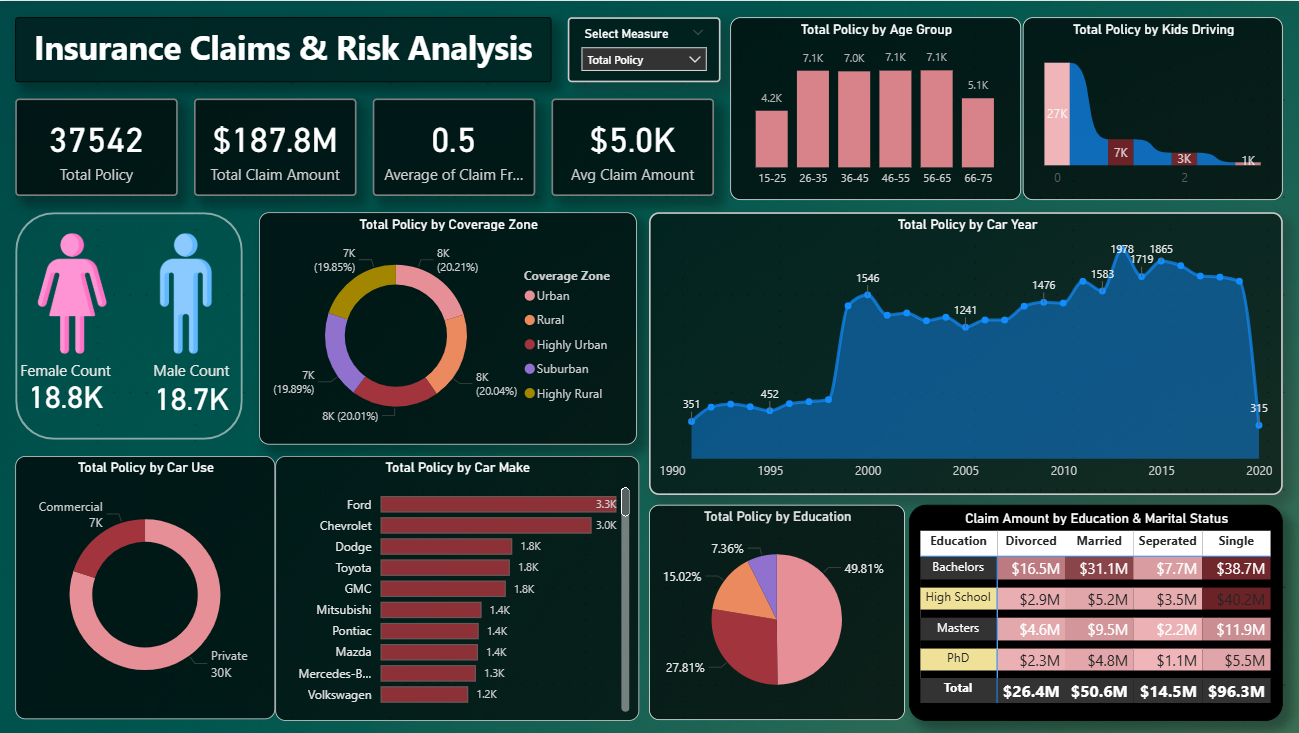

What the dashboard file says about the page in this screenshot:
{"tool":"powerbi","page":{"name":"Page 1","canvas":[1280,720],"ordinal":0},"visuals":[{"type":"textbox","box":[16,16,528,64],"z":0},{"type":"cardVisual","fields":{"Data":["insurance_data_car.Female Count","insurance_data_car.Male Count"]},"box":[0,336,256,80],"z":1000},{"type":"slicer","fields":{"Values":["Select Measure.Select Measure"]},"box":[560,16,150,64],"z":2000},{"type":"donutChart","fields":{"Y":["insurance_data_car.Total Policy"],"Category":["insurance_data_car.Car Use"]},"box":[16,448,256,259],"z":3000},{"type":"clusteredBarChart","fields":{"Y":["insurance_data_car.Total Policy"],"Category":["insurance_data_car.Car Make"]},"box":[272,448,358,261],"z":4000},{"type":"donutChart","fields":{"Y":["insurance_data_car.Total Policy"],"Category":["insurance_data_car.Coverage Zone"]},"box":[256,208,372,229],"z":5000},{"type":"clusteredColumnChart","fields":{"Y":["insurance_data_car.Total Policy"],"Category":["insurance_data_car.Age Group"]},"box":[720,16,286,180],"z":6000},{"type":"ribbonChart","fields":{"Y":["insurance_data_car.Total Policy"],"Category":["insurance_data_car.Kids Driving"]},"box":[1008,16,256,180],"z":7000},{"type":"areaChart","fields":{"Y":["insurance_data_car.Total Policy"],"Category":["insurance_data_car.Car Year"]},"box":[640,208,624,278],"z":8000},{"type":"pieChart","fields":{"Y":["insurance_data_car.Total Policy"],"Category":["insurance_data_car.Education"]},"box":[640,496,252,212],"z":9000},{"type":"pivotTable","title":"Claim Amount by Education & Marital Status","fields":{"Rows":["insurance_data_car.Education"],"Columns":["insurance_data_car.Marital Status"],"Values":["insurance_data_car.Total Claim Amount"]},"box":[896,496,368,213],"z":10000},{"type":"card","title":"Total policy","fields":{"Values":["insurance_data_car.Total Policy"]},"box":[16,96,160,96],"z":11000},{"type":"card","fields":{"Values":["insurance_data_car.Total Claim Amount"]},"box":[192,96,160,96],"z":12000},{"type":"card","title":"Total policy","fields":{"Values":["Avg(insurance_data_car.Claim Freq)"]},"box":[368,96,160,96],"z":13000},{"type":"card","fields":{"Values":["insurance_data_car.Avg Claim Amount"]},"box":[544,96,160,96],"z":14000},{"type":"shape","box":[16,208,224,224],"z":15000},{"type":"image","box":[0,224,144,128],"z":16000},{"type":"image","box":[112,224,144,128],"z":17000}]}

Visuals, with their boxes in screenshot pixels (x1, y1, x2, y2), scaled from the page's 1280x720 canvas onto the 1299x733 screenshot:
textbox: pyautogui.locateOnScreen(16, 16, 552, 81)
cardVisual - insurance_data_car.Female Count x insurance_data_car.Male Count: pyautogui.locateOnScreen(0, 342, 260, 424)
slicer - Select Measure.Select Measure: pyautogui.locateOnScreen(568, 16, 721, 81)
donutChart - insurance_data_car.Total Policy x insurance_data_car.Car Use: pyautogui.locateOnScreen(16, 456, 276, 720)
clusteredBarChart - insurance_data_car.Total Policy x insurance_data_car.Car Make: pyautogui.locateOnScreen(276, 456, 639, 722)
donutChart - insurance_data_car.Total Policy x insurance_data_car.Coverage Zone: pyautogui.locateOnScreen(260, 212, 637, 445)
clusteredColumnChart - insurance_data_car.Total Policy x insurance_data_car.Age Group: pyautogui.locateOnScreen(731, 16, 1021, 200)
ribbonChart - insurance_data_car.Total Policy x insurance_data_car.Kids Driving: pyautogui.locateOnScreen(1023, 16, 1283, 200)
areaChart - insurance_data_car.Total Policy x insurance_data_car.Car Year: pyautogui.locateOnScreen(650, 212, 1283, 495)
pieChart - insurance_data_car.Total Policy x insurance_data_car.Education: pyautogui.locateOnScreen(650, 505, 905, 721)
"Claim Amount by Education & Marital Status" pivotTable: pyautogui.locateOnScreen(909, 505, 1283, 722)
"Total policy" card: pyautogui.locateOnScreen(16, 98, 179, 195)
card - insurance_data_car.Total Claim Amount: pyautogui.locateOnScreen(195, 98, 357, 195)
"Total policy" card: pyautogui.locateOnScreen(373, 98, 536, 195)
card - insurance_data_car.Avg Claim Amount: pyautogui.locateOnScreen(552, 98, 714, 195)
shape: pyautogui.locateOnScreen(16, 212, 244, 440)
image: pyautogui.locateOnScreen(0, 228, 146, 358)
image: pyautogui.locateOnScreen(114, 228, 260, 358)
